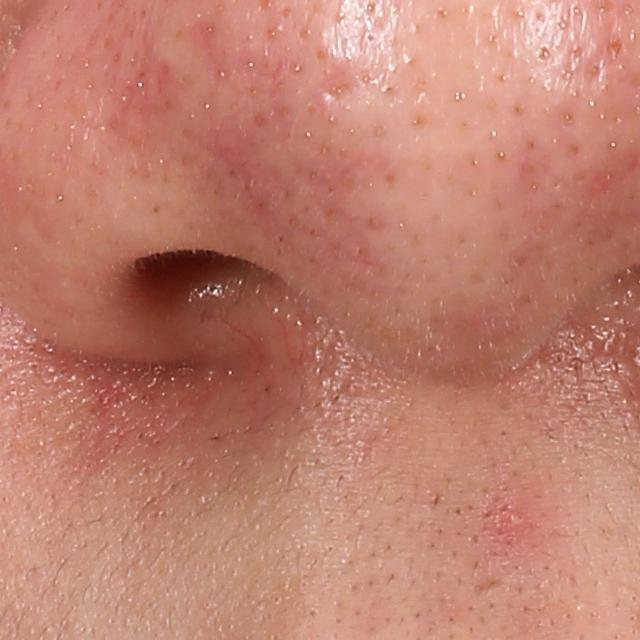atrophic_scar: (309, 60, 370, 114), (470, 576, 509, 600)
